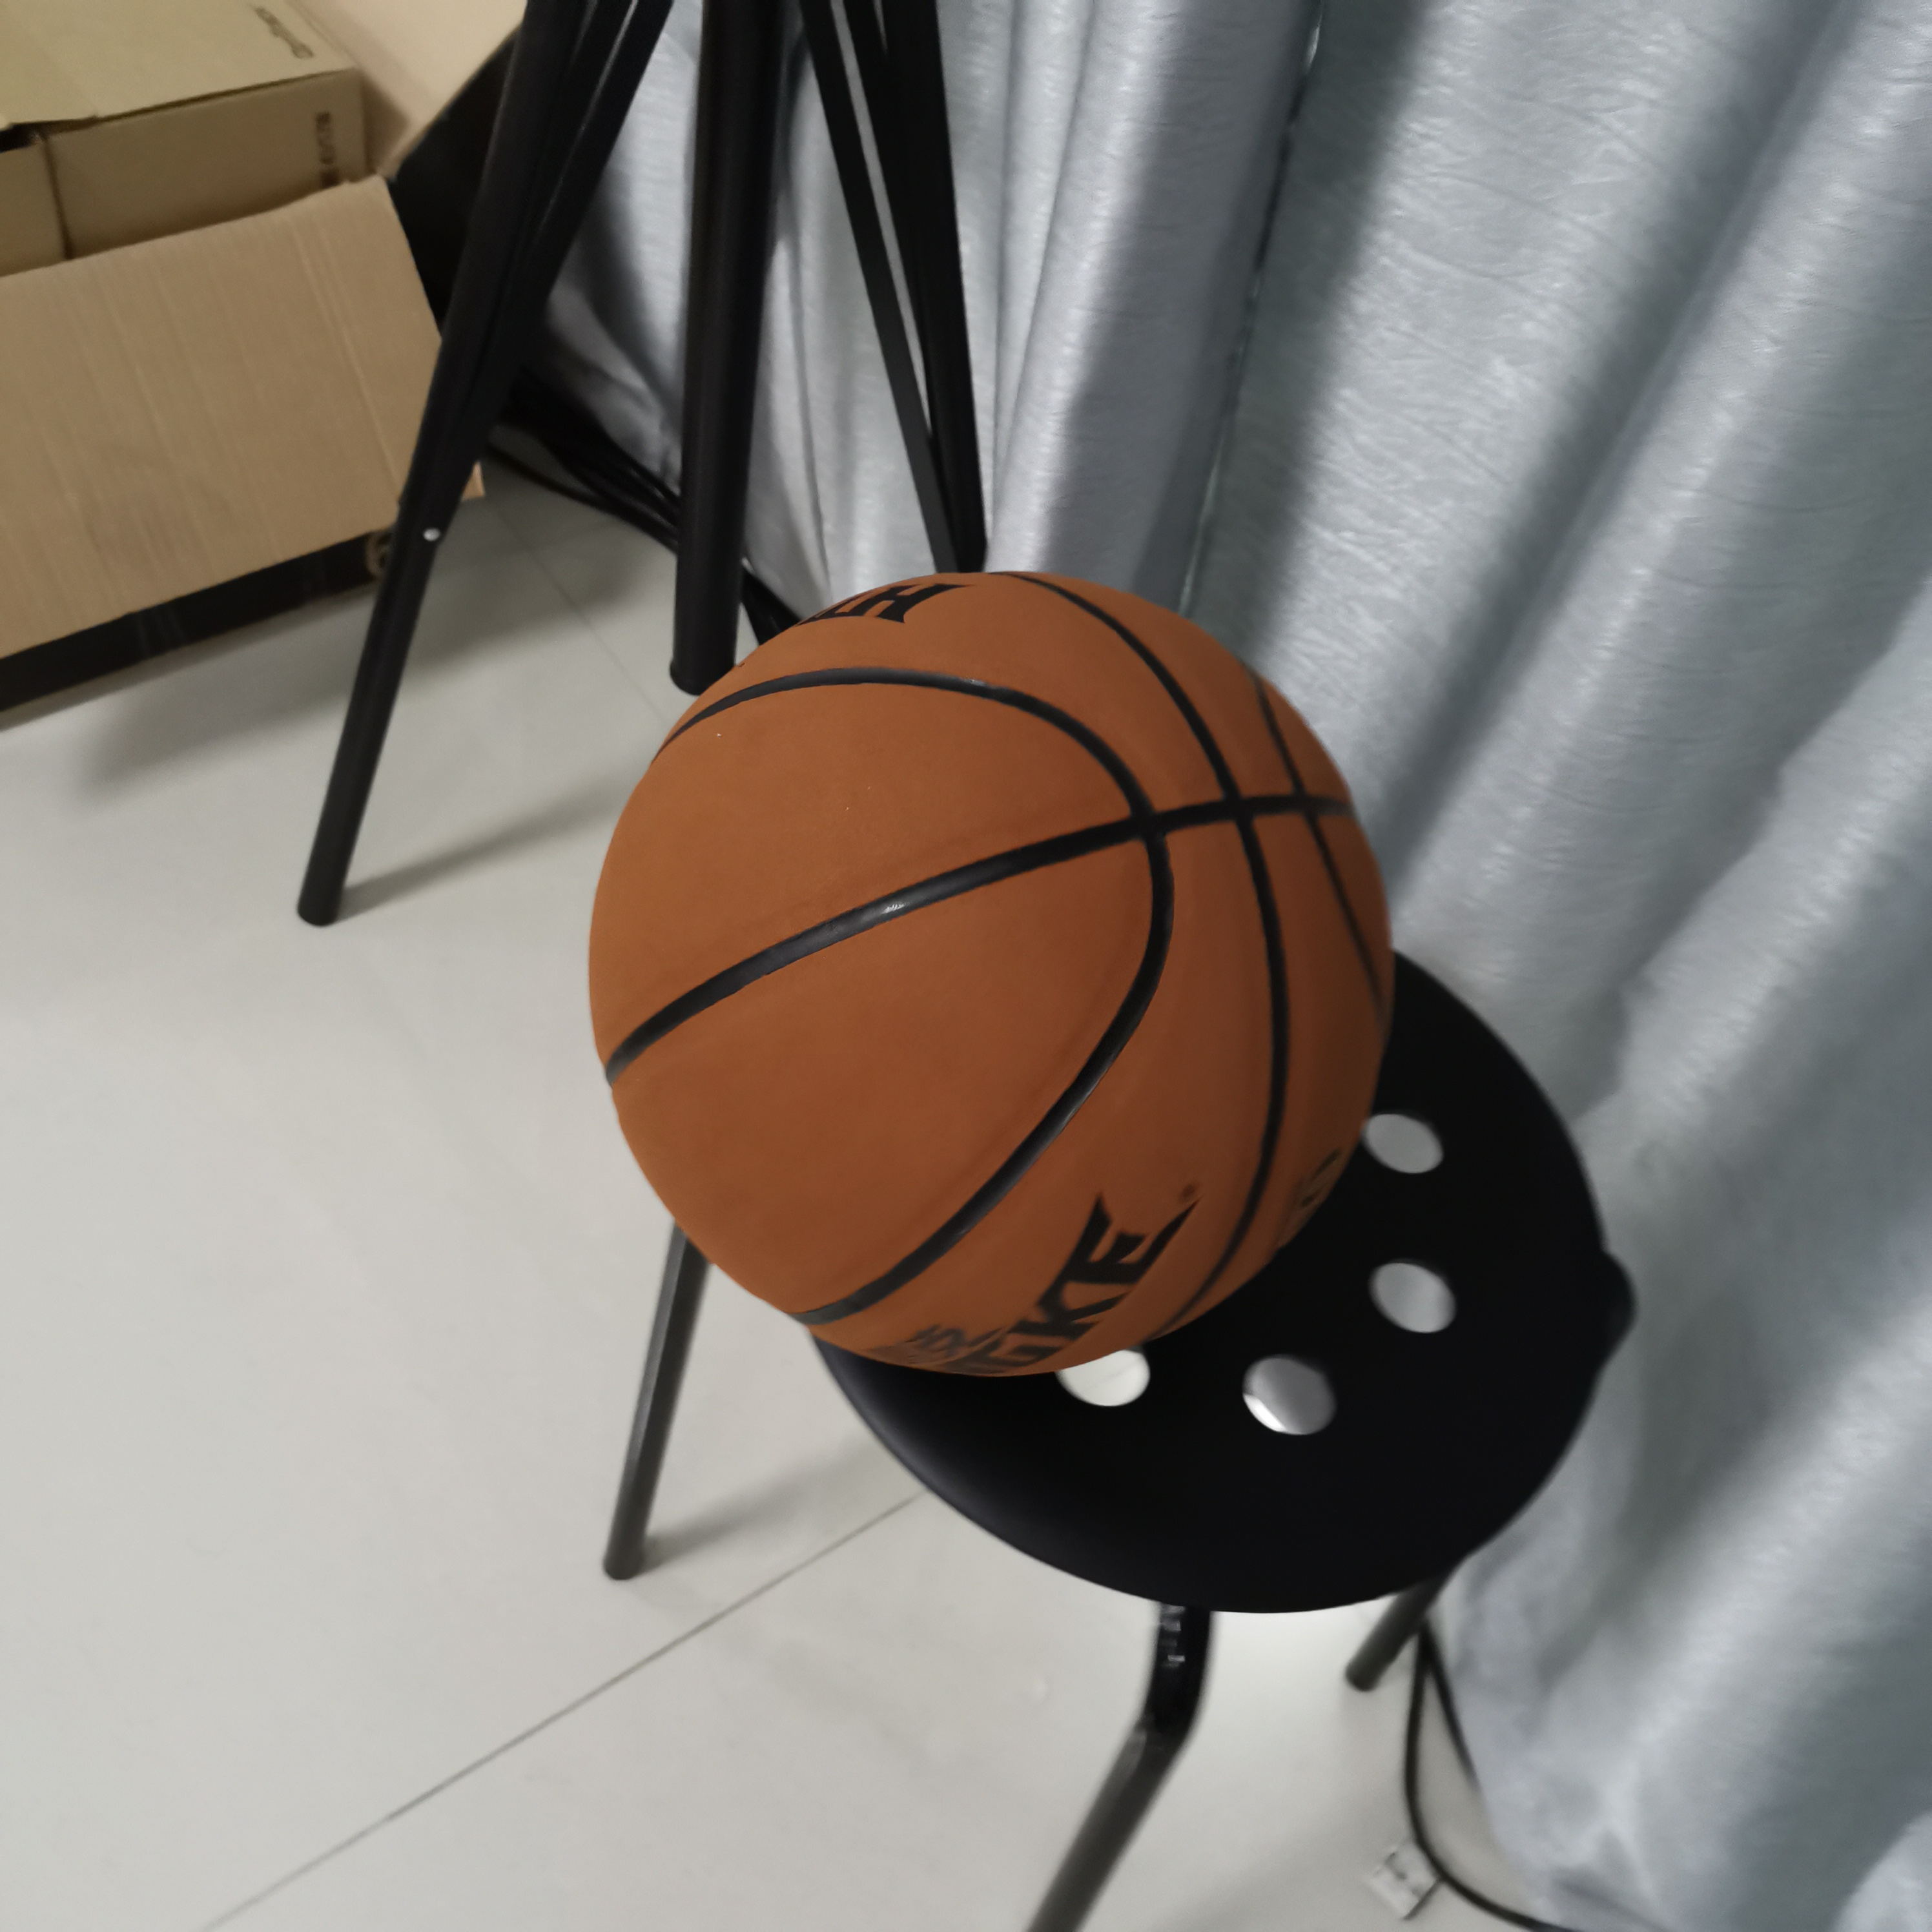basketball: (586, 573, 1392, 1385)
